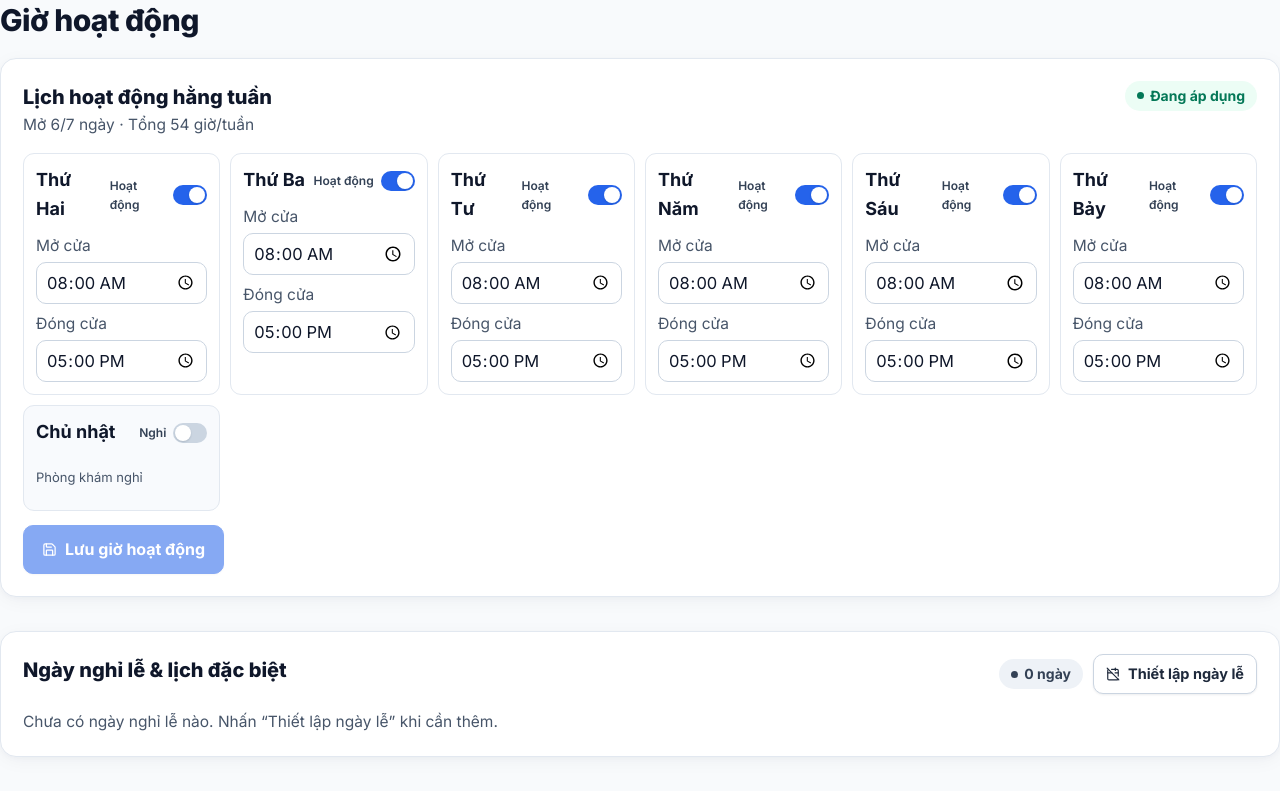
it: ClinicHoursPage › hiển thị trực tiếp 7 ngày, bật Chủ nhật, chặn giờ sai và lưu thành công
This screenshot has width=1280, height=791.
Expected: the text "Mở 6/7 ngày · Tổng 54 giờ/tuần" is shown, [23,114,254,134]
Click the checkbox named "Mở cửa Chủ nhật".
click(173, 433)  # box [139,423,207,443]
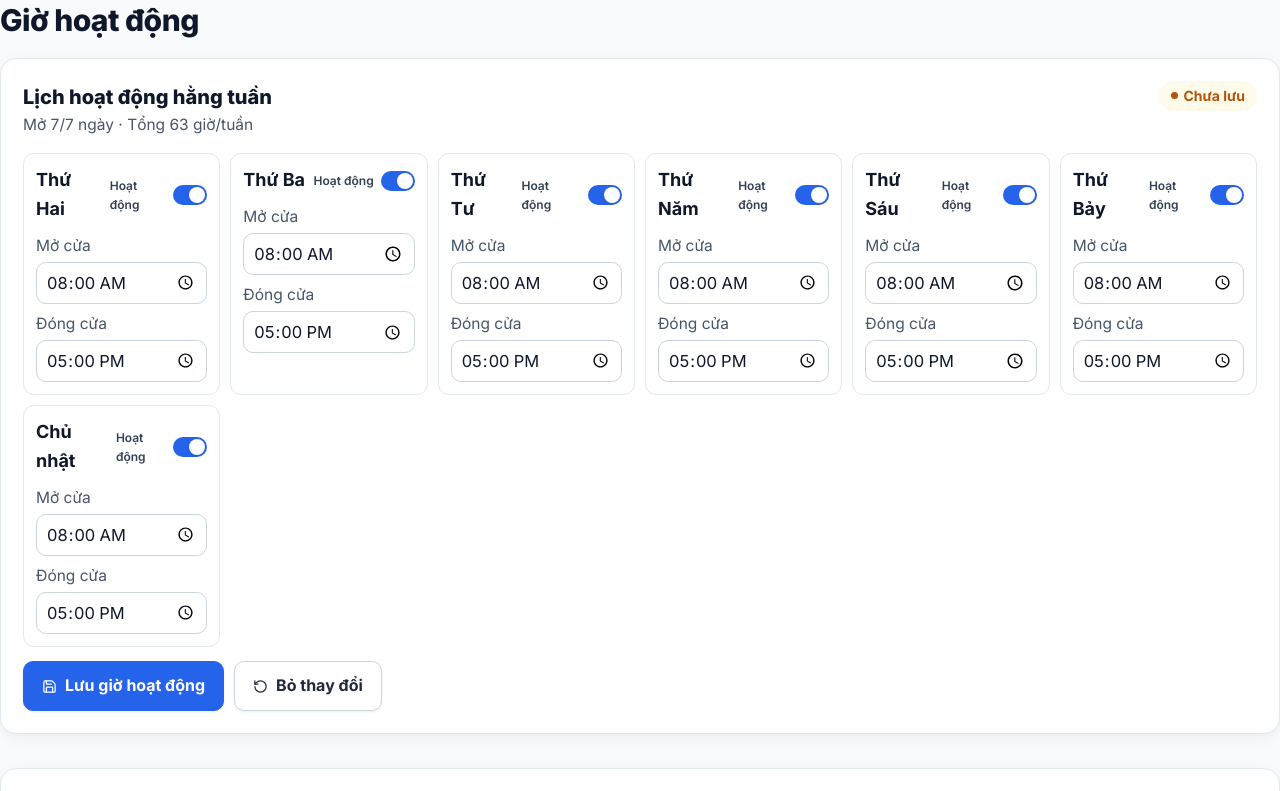
Replace the text in the time field named "Giờ mở cửa Chủ nhật" with "09:00" at [122, 535], box [36,514,207,556]
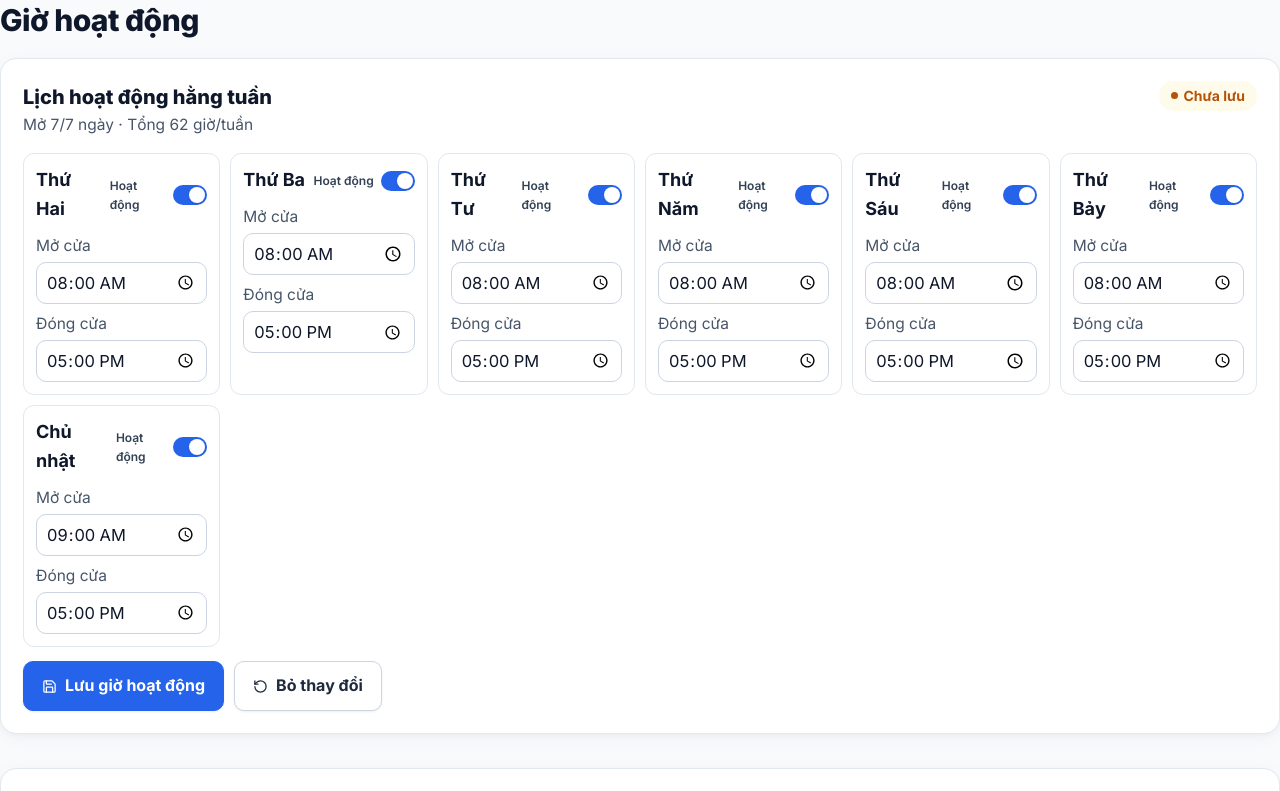
Replace the text in the time field named "Giờ đóng cửa Chủ nhật" with "08:00" at [122, 613], box [36,592,207,634]
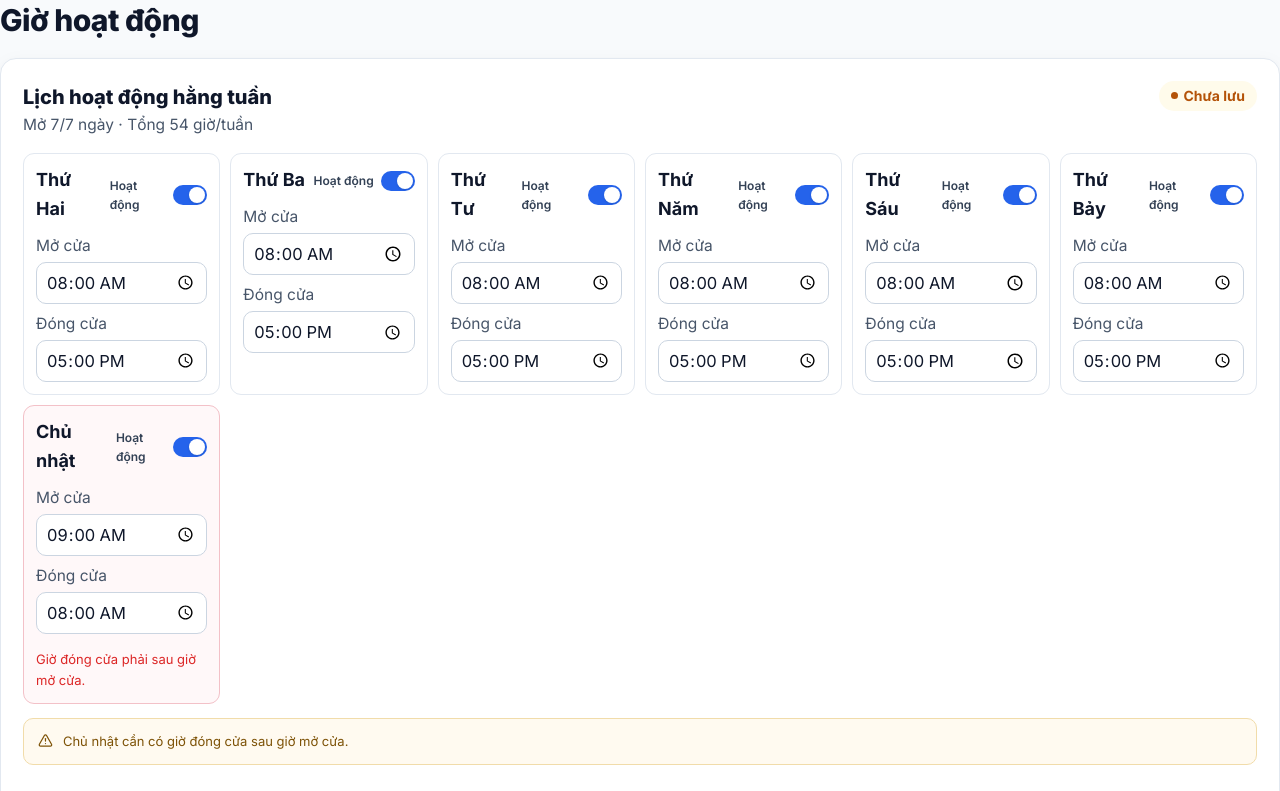
Replace the text in the time field named "Giờ đóng cửa Chủ nhật" with "12:00" at [122, 613], box [36,592,207,634]
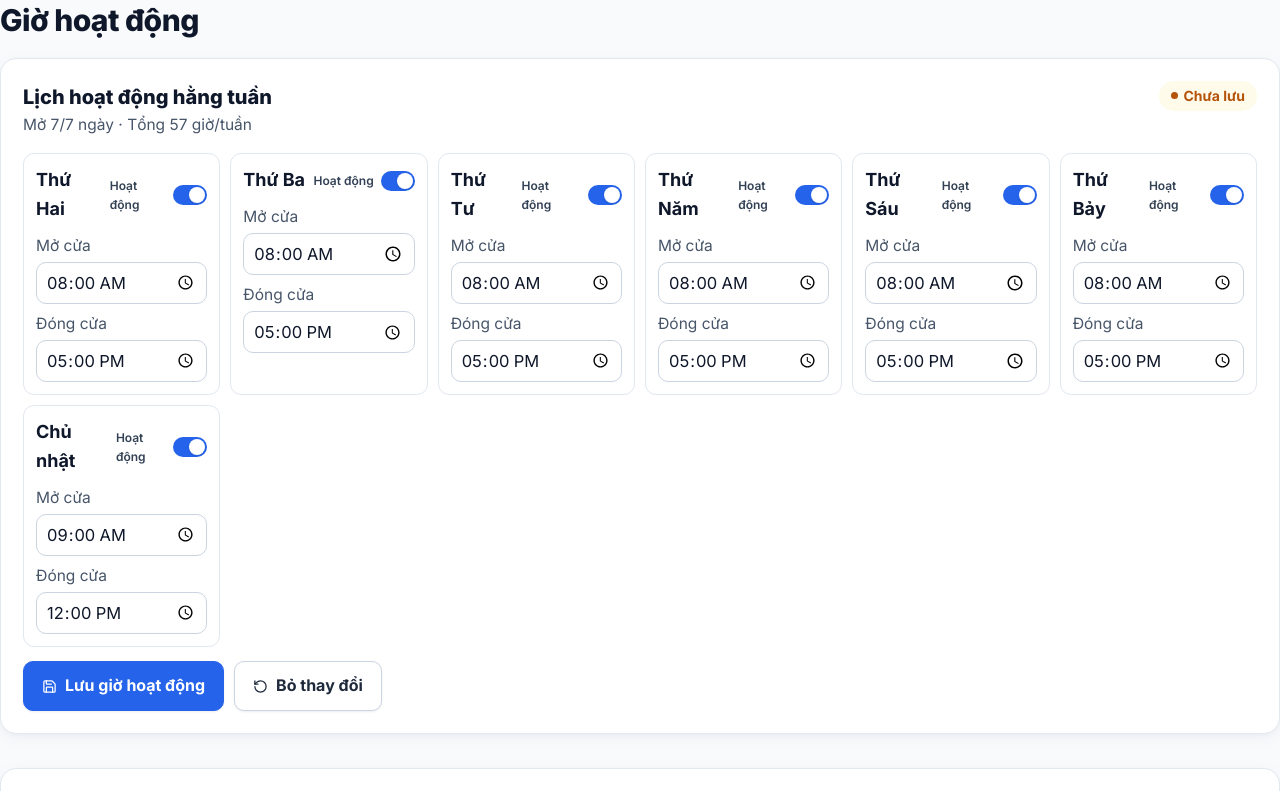
Result: the button "Lưu giờ hoạt động" is enabled
Click the button "Lưu giờ hoạt động".
click(124, 686)  # box [23,661,224,711]
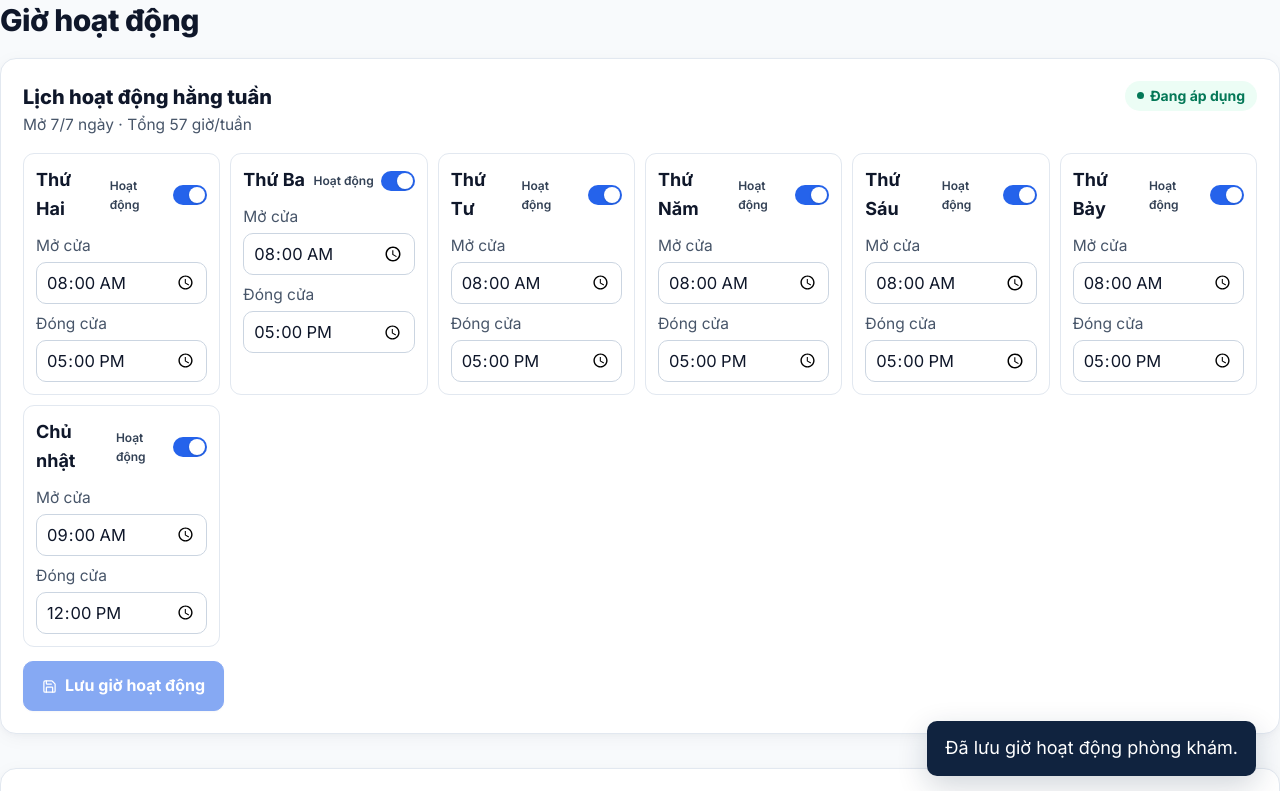
Result: the text "Đã lưu giờ hoạt động phòng khám." is shown at [927,721,1256,776]
